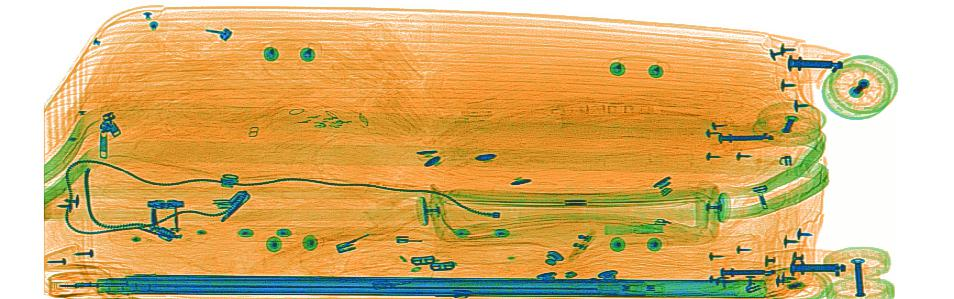USBFlashDisk: (601, 217, 665, 239)
